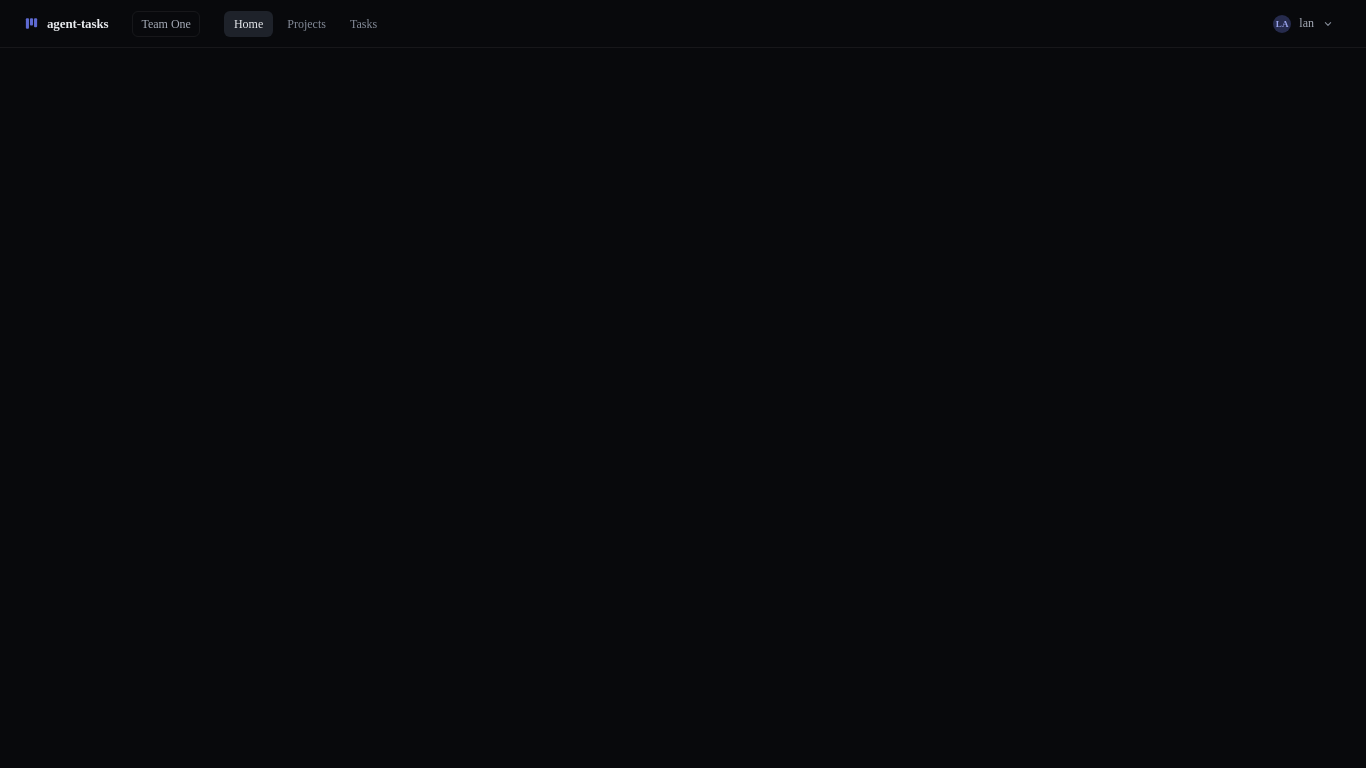
New team dialog › a failed create shows the error inline, keeps the dialog open with the values
The image size is (1366, 768).
Click the button with aria-label "Account menu for lan" at (1304, 24), box [1265,8,1342,38]
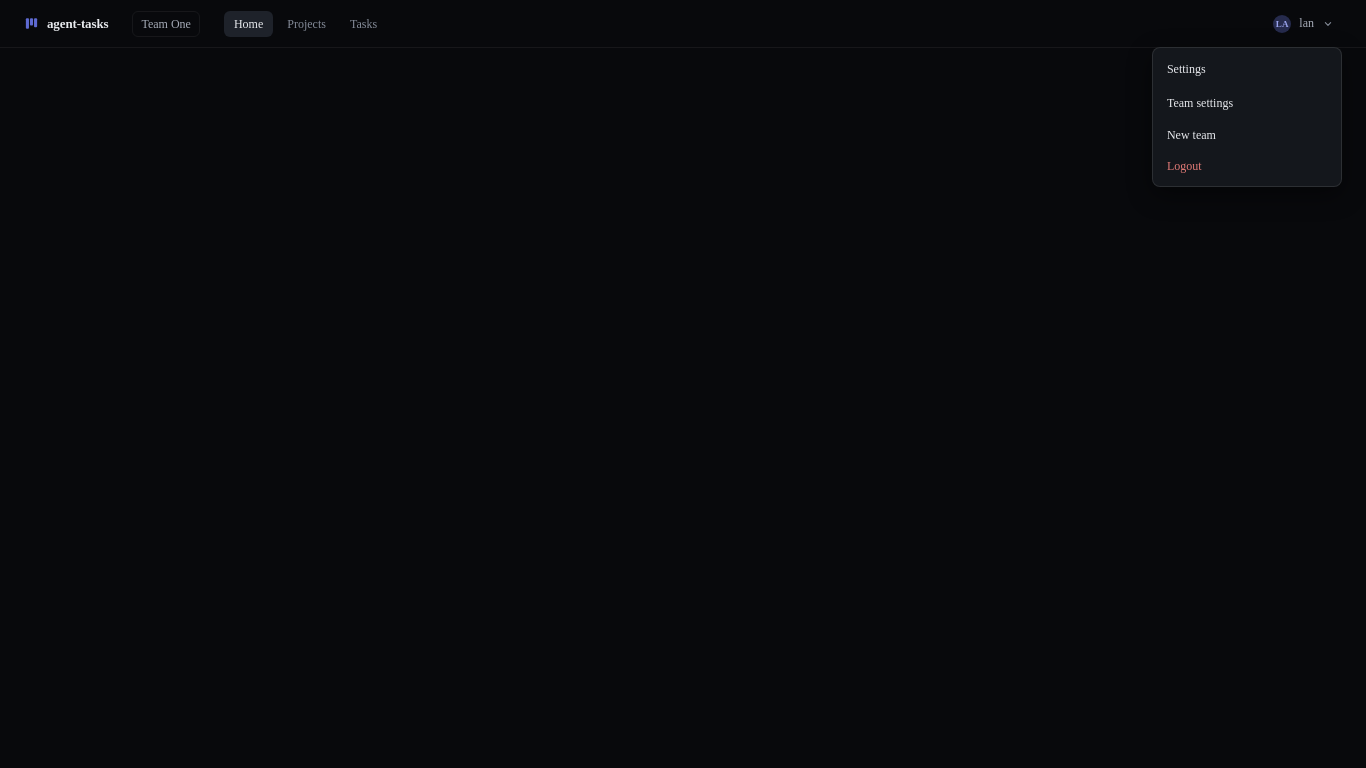
Click the menu item "New team" at (1247, 135), box [1157,120,1337,150]
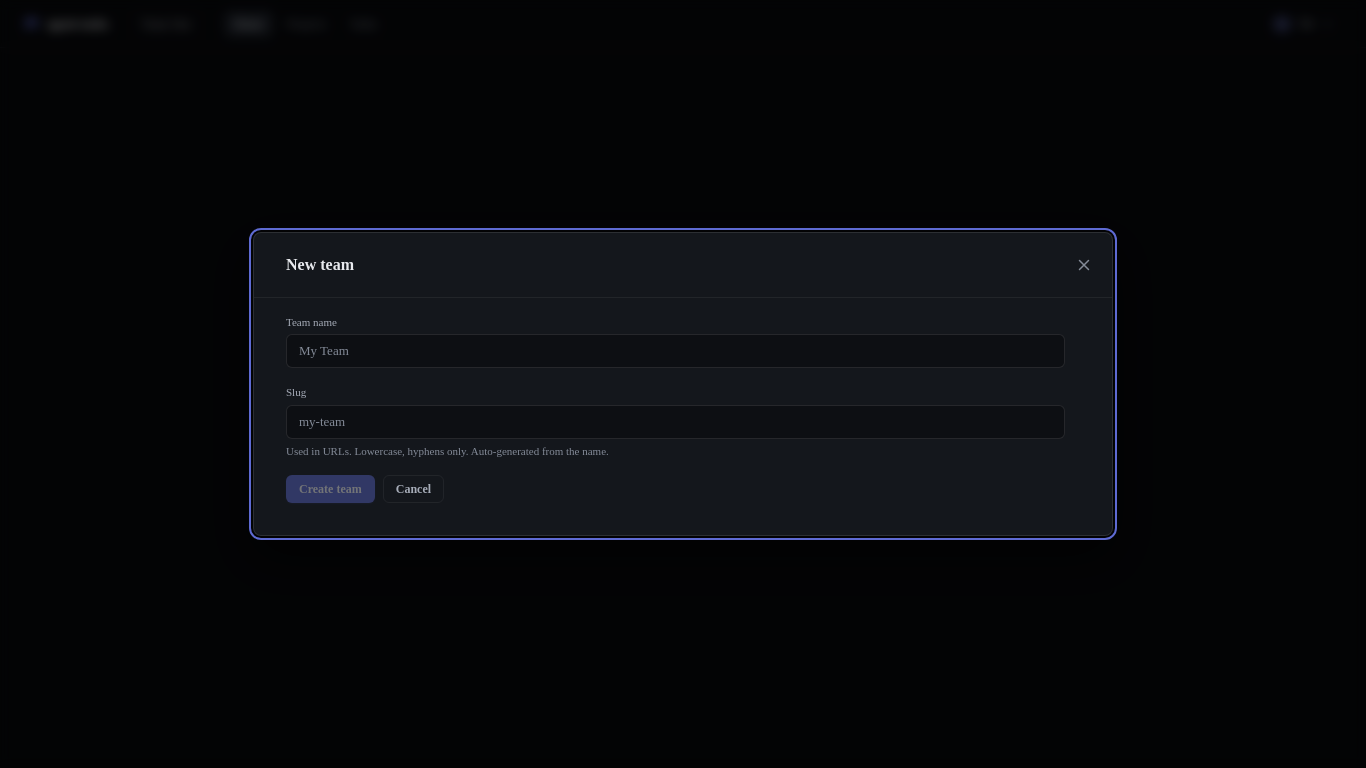
Type "Second" into the field labelled "Team name" at (676, 351), box [286,334,1065,368]
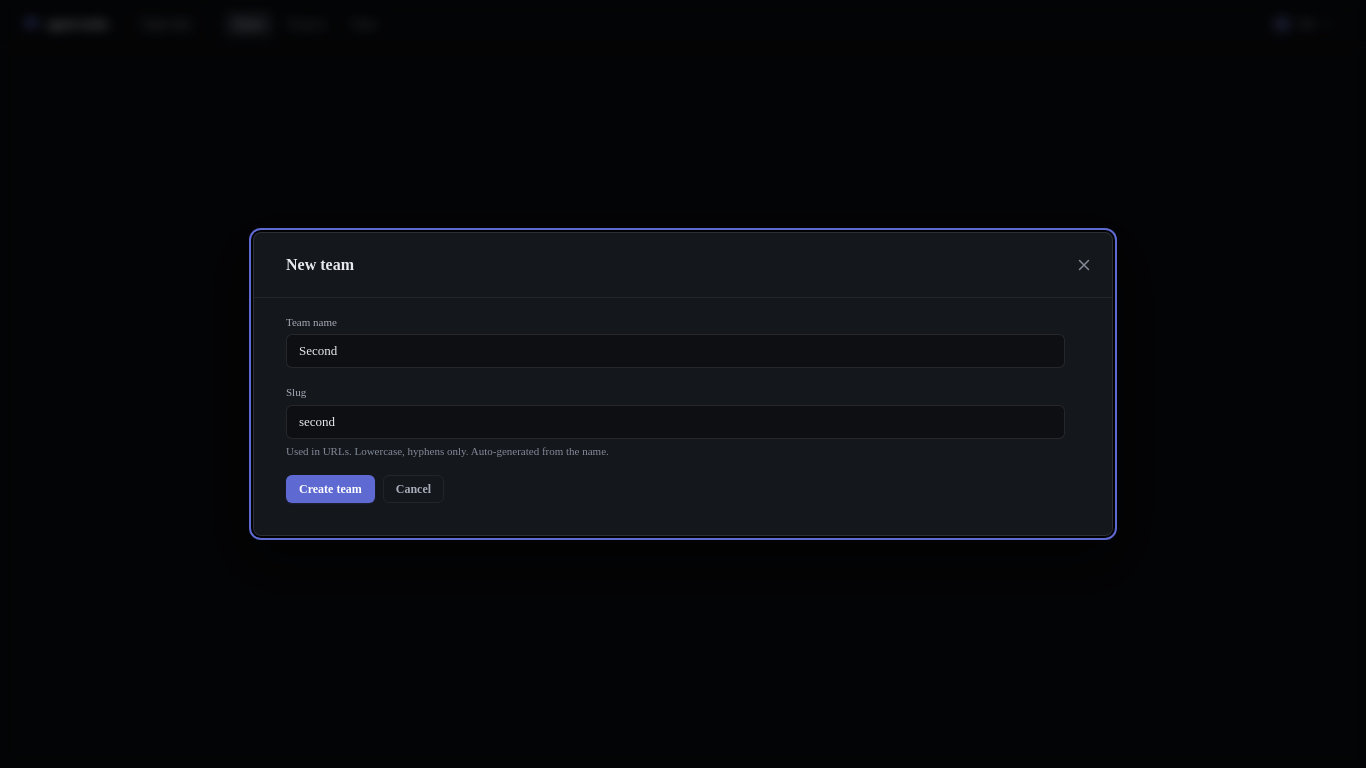
Click the button "Create team" at (330, 489), box [286,475,375,503]
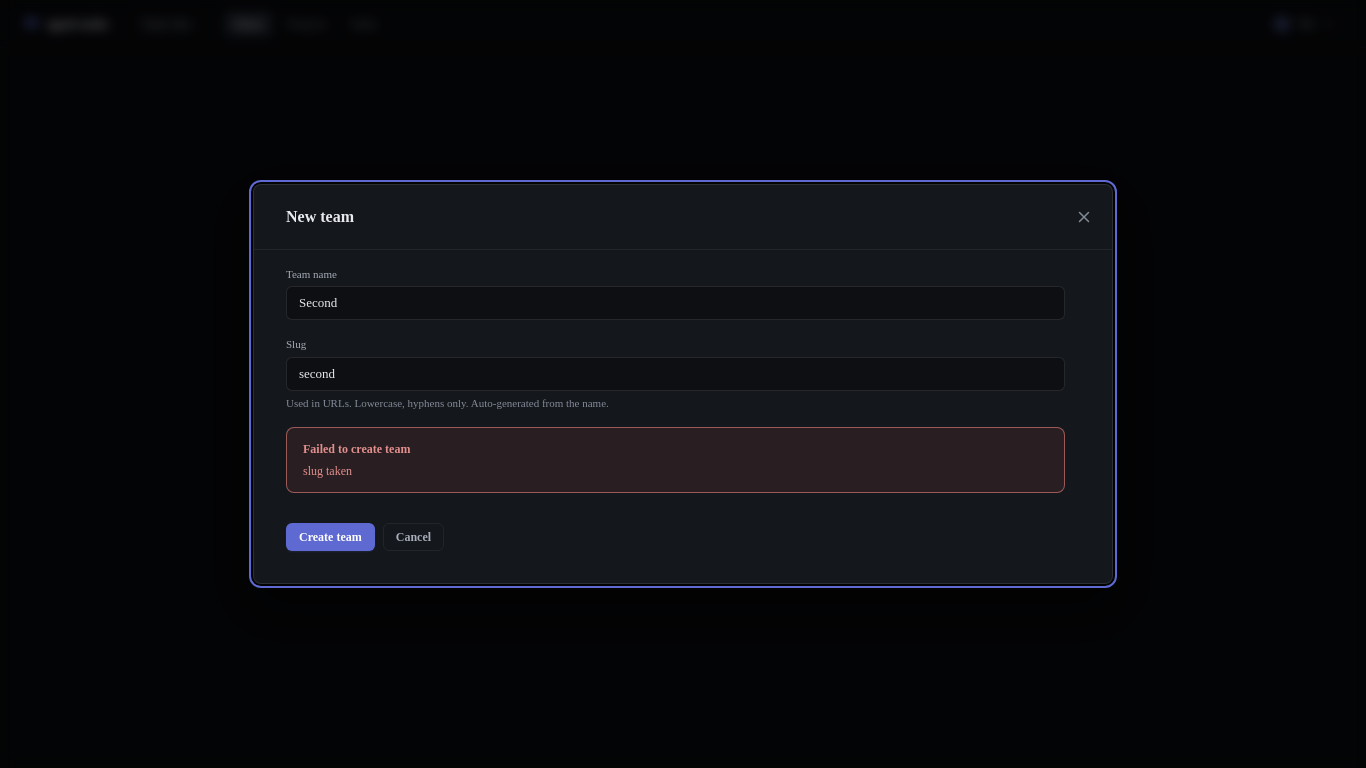
expect the field labelled "Slug" holds "second": met, box [286,356,1065,390]
expect the text "slug taken" is shown: met, box [303,464,352,478]
